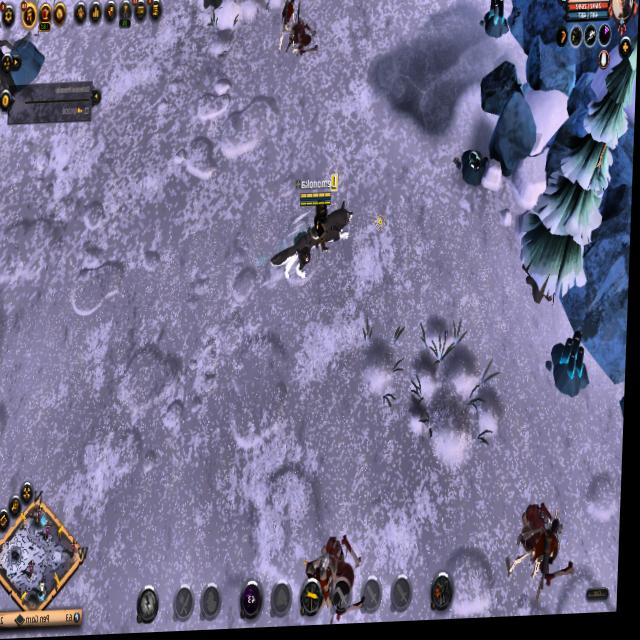ore tier 4: (550, 333, 594, 403), (481, 0, 510, 45)
